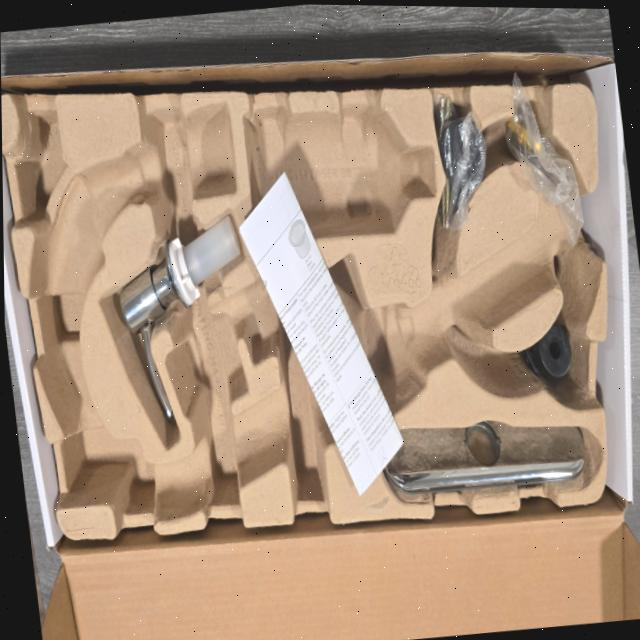1m: (32, 101, 601, 518)
2: (116, 218, 240, 418)
3m: (242, 105, 435, 237)
4o: (379, 419, 583, 491)
5: (521, 322, 571, 382)
6: (503, 72, 584, 249)
7: (434, 91, 487, 230)
8: (238, 172, 404, 498)
